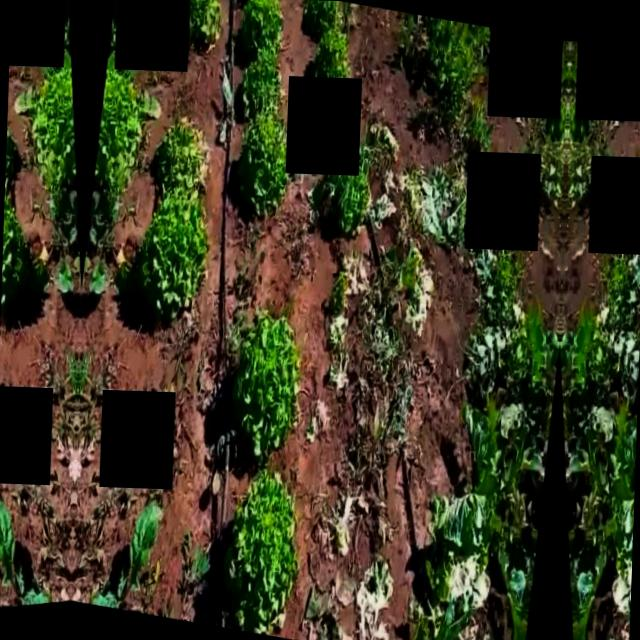healthy: (216, 468, 298, 640), (222, 312, 300, 462), (135, 186, 207, 324), (232, 112, 291, 215), (312, 144, 372, 235), (150, 110, 212, 196), (0, 180, 30, 318), (235, 38, 286, 118), (308, 24, 352, 86), (181, 0, 220, 56), (296, 0, 350, 38), (5, 105, 22, 189)
